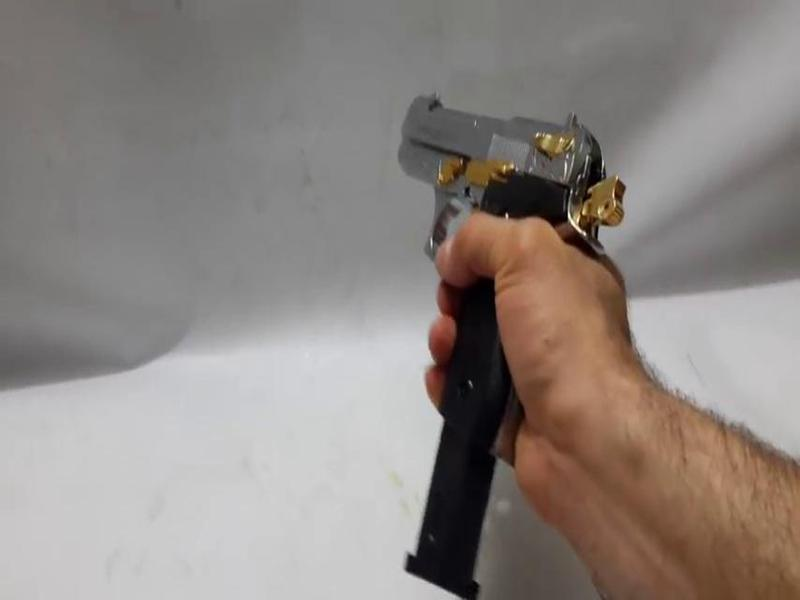Pistola: (373, 57, 598, 437)
